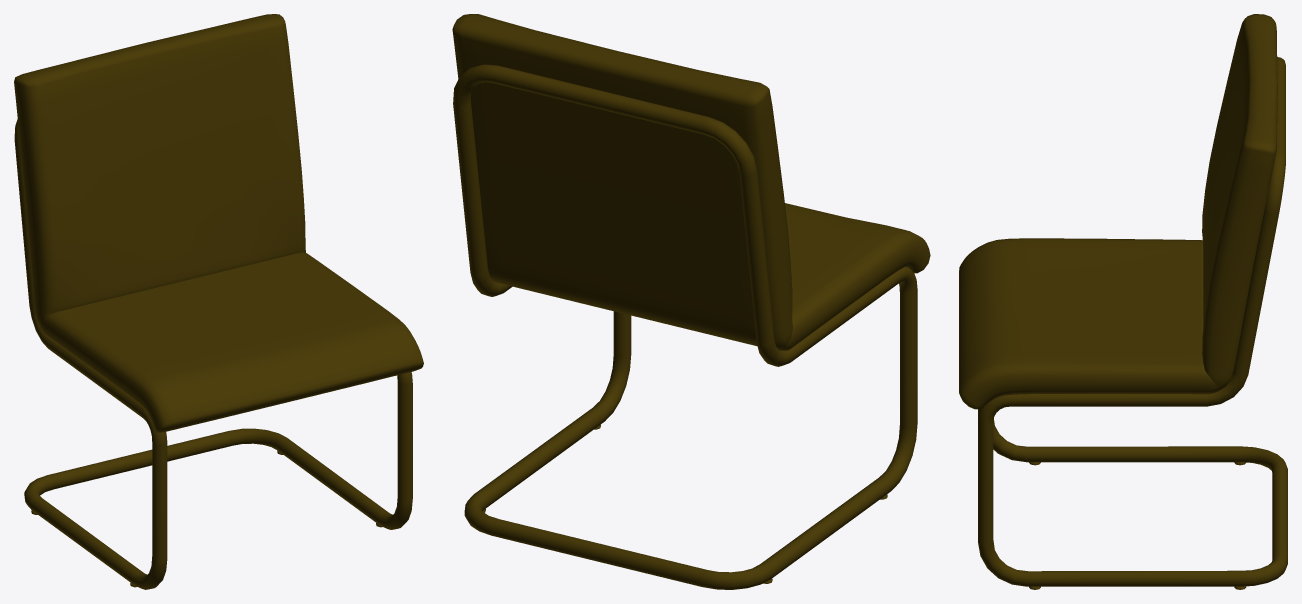
The model's file is office_chair_2.fbx.
The picture shows the model from 3 angles, left to right: view 1: azimuth 30°, elevation 25°; view 2: azimuth 150°, elevation 25°; view 3: azimuth 270°, elevation 25°; orthographic projection. The views are drawn at different scales.
Visible parts, largest first — view 1: office_chair_2; view 2: office_chair_2; view 3: office_chair_2.
Boxes of the visible parts, x1,y1,x2,y2 form: office_chair_2: (14,14,423,589); office_chair_2: (452,14,930,589); office_chair_2: (959,14,1287,589).
Size of the model in its own units: 61.5 by 95.44 by 63.65.
